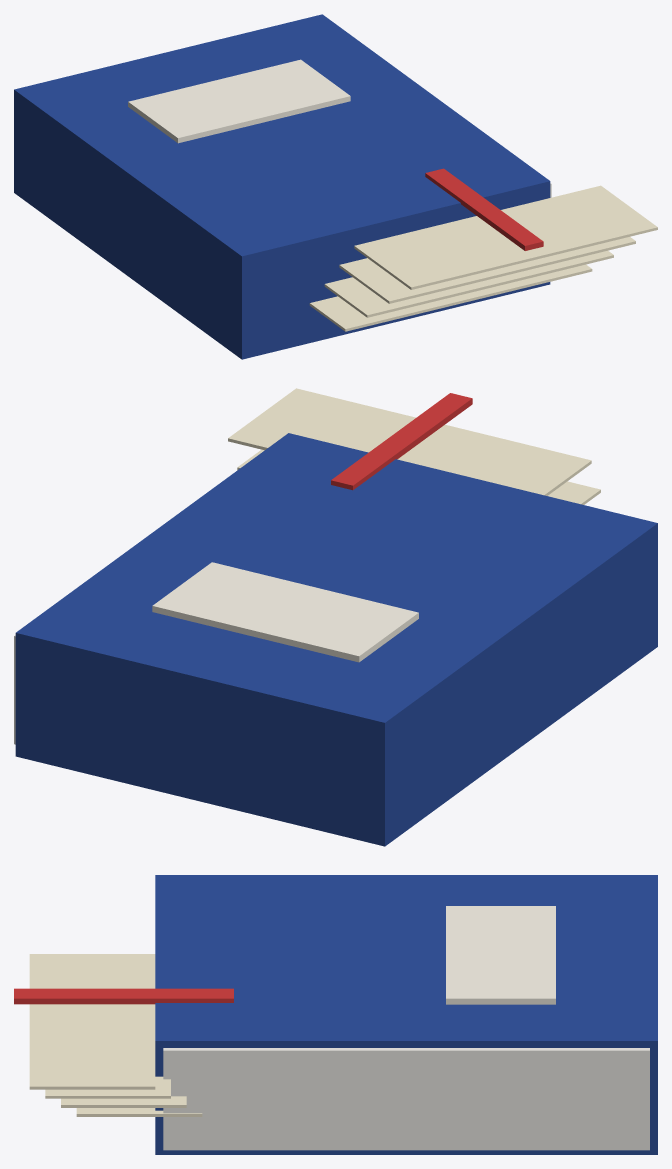
Rendered from installment_book.glb.
The picture shows the model from 3 angles, top to bottom: view 1: azimuth 30°, elevation 25°; view 2: azimuth 150°, elevation 25°; view 3: azimuth 270°, elevation 25°; orthographic projection. The views are drawn at different scales.
Parts seen in each view (by area): view 1: cover_binder_blue, sheet3_sheet_cream, label_ledger_label, sheet2_sheet_cream, sheet1_sheet_cream, sheet0_sheet_cream, ribbon_ledger_ribbon; view 2: cover_binder_blue, label_ledger_label, sheet3_sheet_cream, ribbon_ledger_ribbon, sheet2_sheet_cream; view 3: cover_binder_blue, pages_white, sheet3_sheet_cream, label_ledger_label, ribbon_ledger_ribbon, sheet2_sheet_cream, sheet1_sheet_cream, sheet0_sheet_cream.
Part boxes in pixels (x1,y1,x2,y2): cover_binder_blue: (14,14,550,359); sheet3_sheet_cream: (354,185,657,289); label_ledger_label: (128,59,350,143); sheet2_sheet_cream: (339,237,635,303); sheet1_sheet_cream: (324,250,613,317); sheet0_sheet_cream: (309,264,592,331); ribbon_ledger_ribbon: (425,168,543,250); cover_binder_blue: (15,433,657,846); label_ledger_label: (152,562,418,662); sheet3_sheet_cream: (228,388,591,495); ribbon_ledger_ribbon: (331,393,472,490); sheet2_sheet_cream: (237,449,600,504); cover_binder_blue: (155,875,657,1154); pages_white: (163,1048,649,1150); sheet3_sheet_cream: (29,954,155,1089); label_ledger_label: (446,906,555,1004); ribbon_ledger_ribbon: (14,988,233,1004); sheet2_sheet_cream: (45,1076,170,1098); sheet1_sheet_cream: (61,1096,186,1107); sheet0_sheet_cream: (76,1108,202,1116).
Size of the model in its own units: 0.291 by 0.084 by 0.41.
